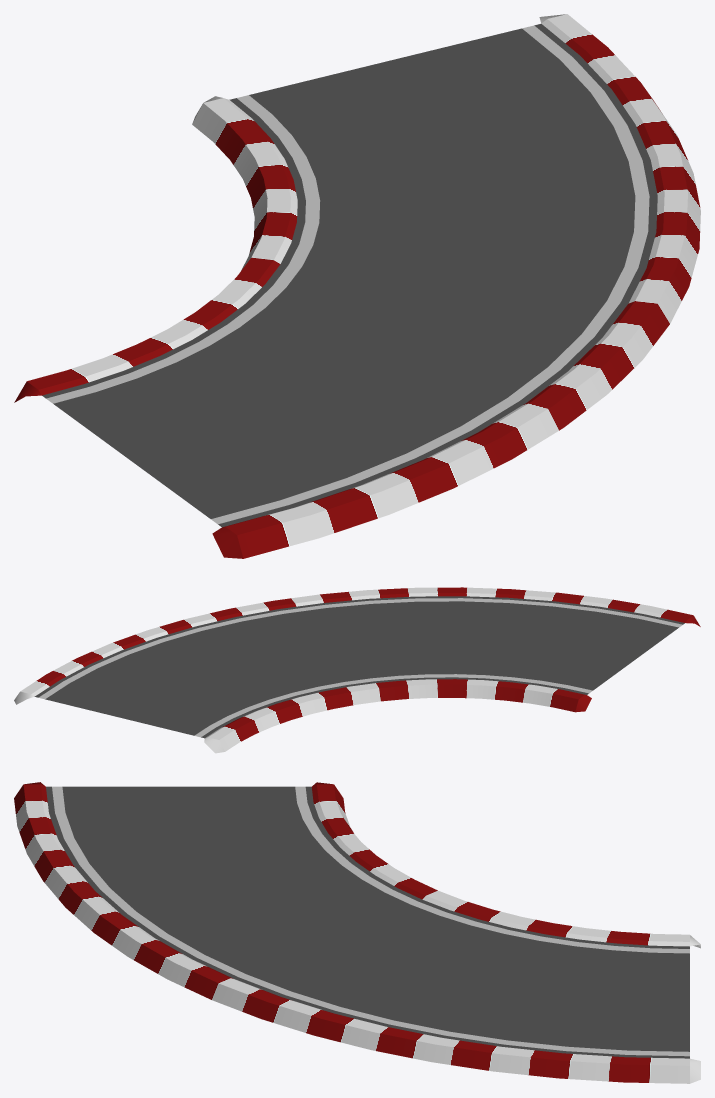
The model's file is Track_left_High.FBX.
The picture shows the model from 3 angles, top to bottom: view 1: azimuth 30°, elevation 25°; view 2: azimuth 150°, elevation 25°; view 3: azimuth 270°, elevation 25°; orthographic projection. The views are drawn at different scales.
Parts seen in each view (by area): view 1: Track_left_High, Track_left_High_Apex_Right, Track_left_High_Apex_Left; view 2: Track_left_High, Track_left_High_Apex_Left, Track_left_High_Apex_Right; view 3: Track_left_High, Track_left_High_Apex_Right, Track_left_High_Apex_Left.
Part boxes in pixels (x1,y1,x2,y2): Track_left_High: (42,23,657,527); Track_left_High_Apex_Right: (212,14,700,558); Track_left_High_Apex_Left: (14,96,297,402); Track_left_High: (34,596,684,738); Track_left_High_Apex_Left: (204,679,591,753); Track_left_High_Apex_Right: (14,587,700,704); Track_left_High: (46,786,689,1058); Track_left_High_Apex_Right: (14,782,700,1083); Track_left_High_Apex_Left: (311,782,700,948).
Size of the model in its own units: 2148 by 48.12 by 2147.
1 material, 1 textured.
